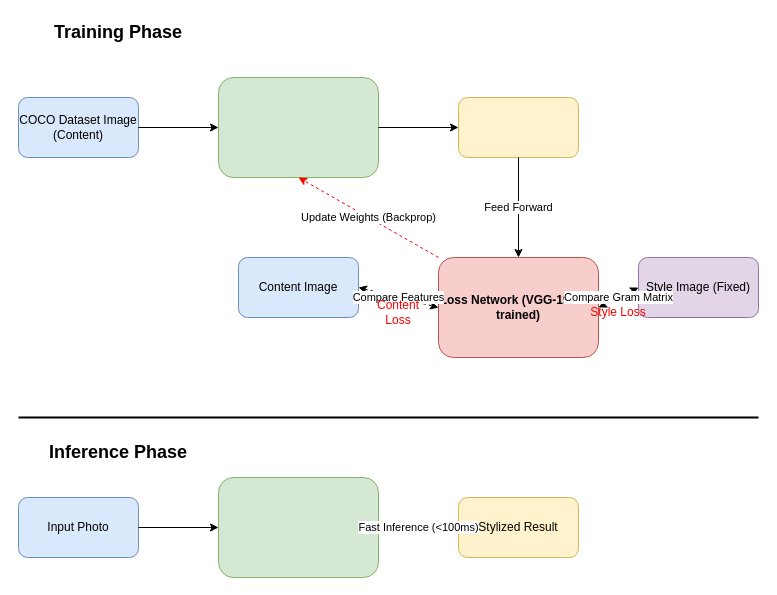
The diagram is 777 pixels wide and 595 high, and some of its shapes have lost their labels. Each missing label, with the box of its shape:
Generated Image: (458, 96, 578, 158)
Image Transformation Network (ResNet): (218, 76, 378, 178)
Trained Transformation Network: (218, 476, 378, 578)
